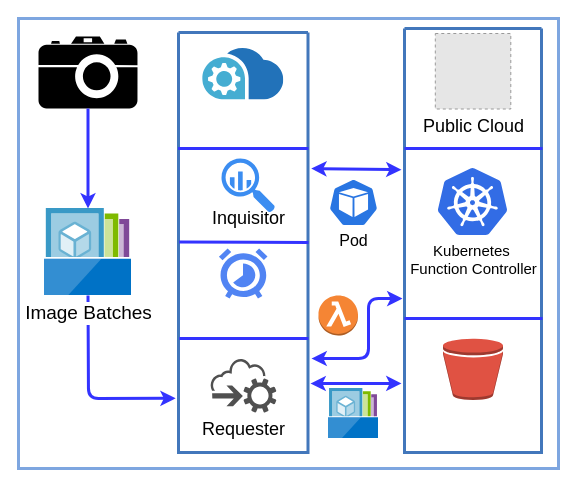
Image size: 577x487. Some labels were removed from this diagram. Grey dashed boxes stand in for pictures. The centre of each missing label's shape, as x and y in pixels:
"Ceph S3 Bucket" goes at (x=472, y=369).
"Cloud Scheduler" goes at (x=242, y=273).
"Edge Controller" goes at (x=242, y=74).
